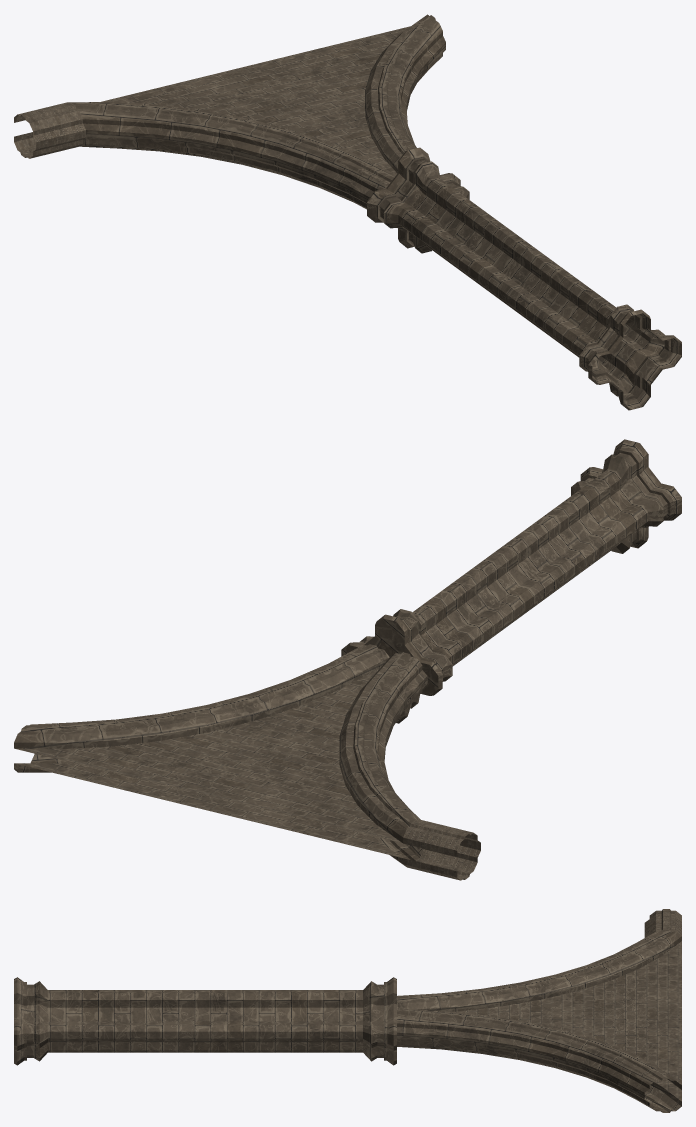
Rendered from arch.fbx.
3 views of the same model, one above another, from view 1: azimuth 30°, elevation 25°; view 2: azimuth 150°, elevation 25°; view 3: azimuth 270°, elevation 25° (orthographic). The views are drawn at different scales.
Visible parts, largest first — view 1: Fullpillar, polySurface2, polySurface3, polySurface1; view 2: Fullpillar, polySurface3, polySurface2, polySurface1; view 3: Fullpillar, polySurface3, polySurface2, polySurface1.
Boxes of the visible parts, x1=… form: Fullpillar: x1=367, y1=147, x2=681, y2=410; polySurface2: x1=68, y1=67, x2=396, y2=209; polySurface3: x1=244, y1=14, x2=445, y2=185; polySurface1: x1=14, y1=102, x2=85, y2=158; Fullpillar: x1=341, y1=439, x2=681, y2=723; polySurface3: x1=14, y1=644, x2=389, y2=810; polySurface2: x1=209, y1=652, x2=427, y2=865; polySurface1: x1=403, y1=819, x2=480, y2=880; Fullpillar: x1=14, y1=977, x2=396, y2=1065; polySurface3: x1=397, y1=1008, x2=681, y2=1112; polySurface2: x1=397, y1=929, x2=681, y2=1015; polySurface1: x1=644, y1=909, x2=681, y2=937.
Bounding box in the file's own units: 205 × 46.73 × 340.
